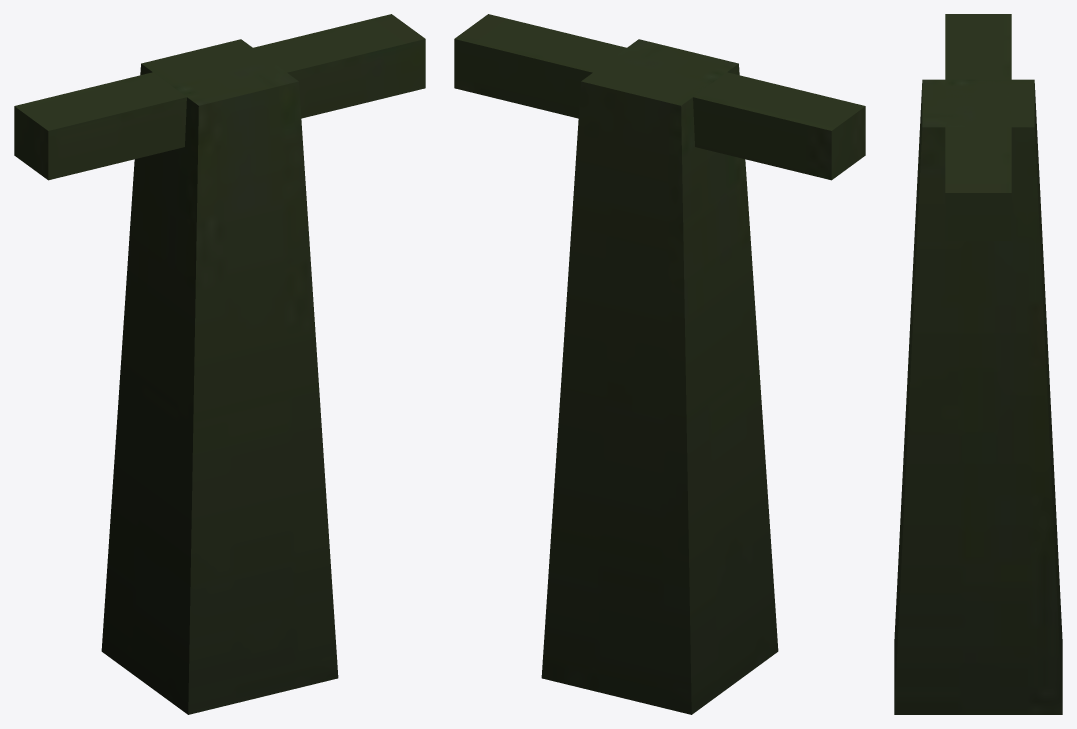
File: rail-signal.glb
3 views of the same model, side by side, from view 1: azimuth 30°, elevation 25°; view 2: azimuth 150°, elevation 25°; view 3: azimuth 270°, elevation 25° (orthographic). The views are drawn at different scales.
Parts seen in each view (by area): view 1: rail-signal; view 2: rail-signal; view 3: rail-signal.
Part boxes in pixels (x1,y1,x2,y2): rail-signal: [14, 14, 425, 714]; rail-signal: [454, 14, 865, 714]; rail-signal: [894, 14, 1062, 714].
Bounding box in the file's own units: 0.16 × 0.24 × 0.0636.
Materials: 1 (1 with a texture image).
